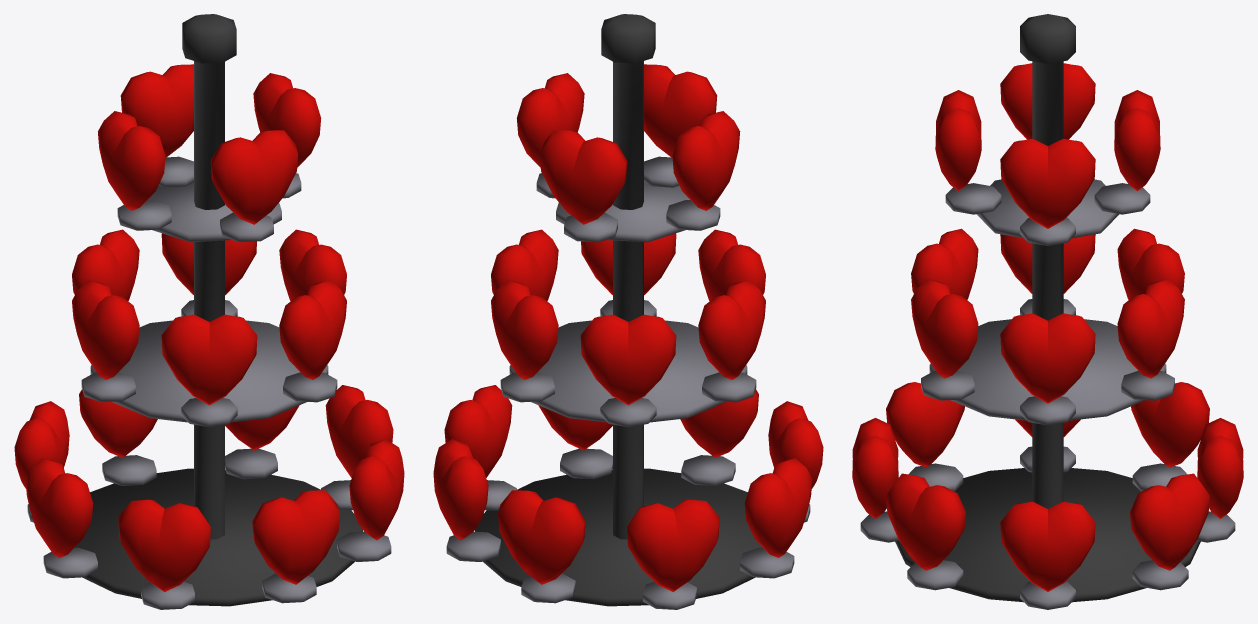
Rendered from GB_075_health.glb.
3 renders of one model, left to right at view 1: azimuth 30°, elevation 25°; view 2: azimuth 150°, elevation 25°; view 3: azimuth 270°, elevation 25°, orthographic.
Parts seen in each view (by area): view 1: Holder_LIfe, Heart.008, Heart.005, Heart.015, Heart.006, Heart.013, Heart.009, Heart.004, Heart.016, Heart.017, Heart.007, Heart (+7 smaller); view 2: Holder_LIfe, Heart.010, Heart.003, Heart.017, Heart.002, Heart.004, Heart.011, Heart.009, Heart.016, Heart.015, Heart.001, Heart (+7 smaller); view 3: Holder_LIfe, Heart, Heart.014, Heart.012, Heart.001, Heart.007, Heart.013, Heart.011, Heart.003, Heart.005, Heart.016, Heart.015 (+6 smaller).
Part boxes in pixels (x1,y1,x2,y2): Holder_LIfe: (27, 14, 391, 609); Heart.008: (161, 314, 257, 405); Heart.005: (118, 499, 210, 591); Heart.015: (210, 130, 298, 224); Heart.006: (252, 490, 339, 584); Heart.013: (279, 280, 346, 379); Heart.009: (72, 280, 139, 379); Heart.004: (25, 458, 93, 557); Heart.016: (98, 111, 165, 210); Heart.017: (120, 64, 193, 157); Heart.007: (349, 439, 404, 540); Heart: (325, 385, 393, 477); Holder_LIfe: (446, 14, 810, 609); Heart.010: (580, 314, 676, 405); Heart.003: (627, 499, 719, 592); Heart.017: (539, 130, 627, 224); Heart.002: (498, 490, 585, 584); Heart.004: (744, 458, 812, 557); Heart.011: (491, 280, 558, 379); Heart.009: (698, 280, 765, 379); Heart.016: (672, 111, 740, 210); Heart.015: (644, 64, 717, 157); Heart.001: (433, 439, 488, 540); Heart: (444, 385, 512, 477); Holder_LIfe: (860, 14, 1235, 609); Heart: (1000, 501, 1095, 591); Heart.014: (1000, 138, 1095, 228); Heart.012: (1000, 313, 1095, 403); Heart.001: (1130, 473, 1209, 570); Heart.007: (886, 473, 965, 570); Heart.013: (911, 279, 978, 378); Heart.011: (1117, 279, 1184, 378); Heart.003: (1131, 382, 1209, 467); Heart.005: (886, 382, 964, 467); Heart.016: (1000, 63, 1095, 139); Heart.015: (935, 90, 981, 191).
Bounding box in the file's own units: 0.8757 × 1.28 × 0.8757.
